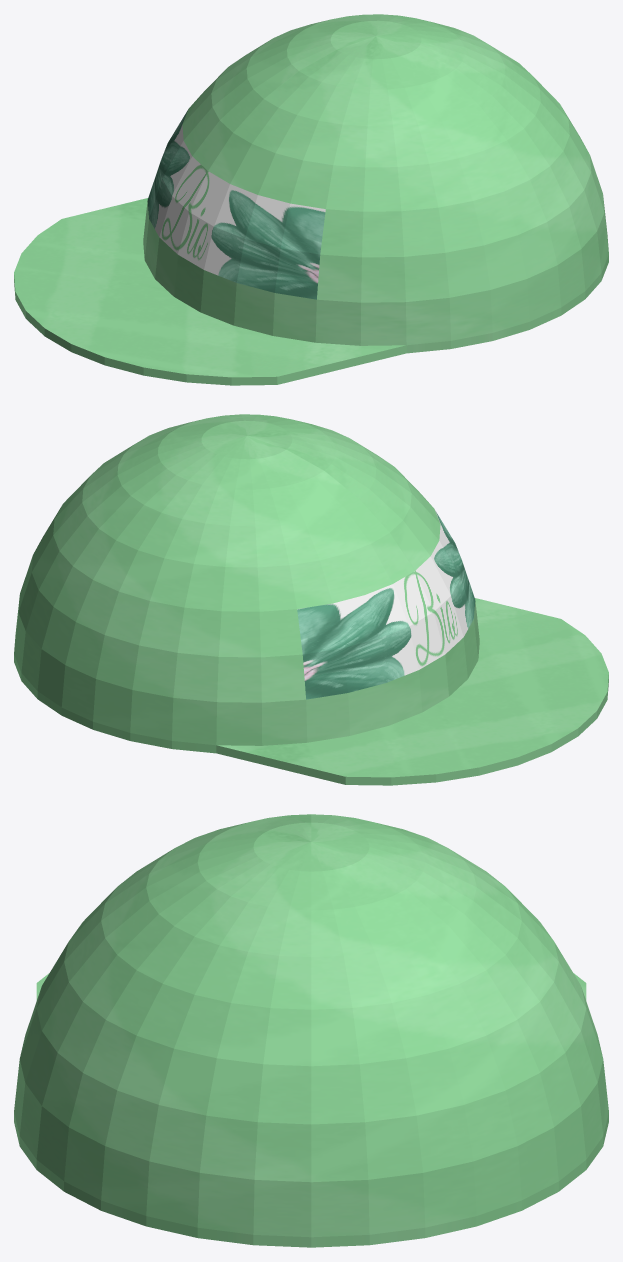
The model's file is CasquetteVerte.glb.
3 views of the same model, one above another, from view 1: azimuth 30°, elevation 25°; view 2: azimuth 150°, elevation 25°; view 3: azimuth 270°, elevation 25° (orthographic). The views are drawn at different scales.
Visible parts, largest first — view 1: Sphere; view 2: Sphere; view 3: Sphere.
Boxes of the visible parts, x1,y1,x2,y2 form: Sphere: [14, 14, 608, 385]; Sphere: [14, 414, 608, 785]; Sphere: [14, 814, 608, 1247].
Bounding box in the file's own units: 0.2639 × 0.1039 × 0.2.
Materials: 2 (2 with a texture image).
